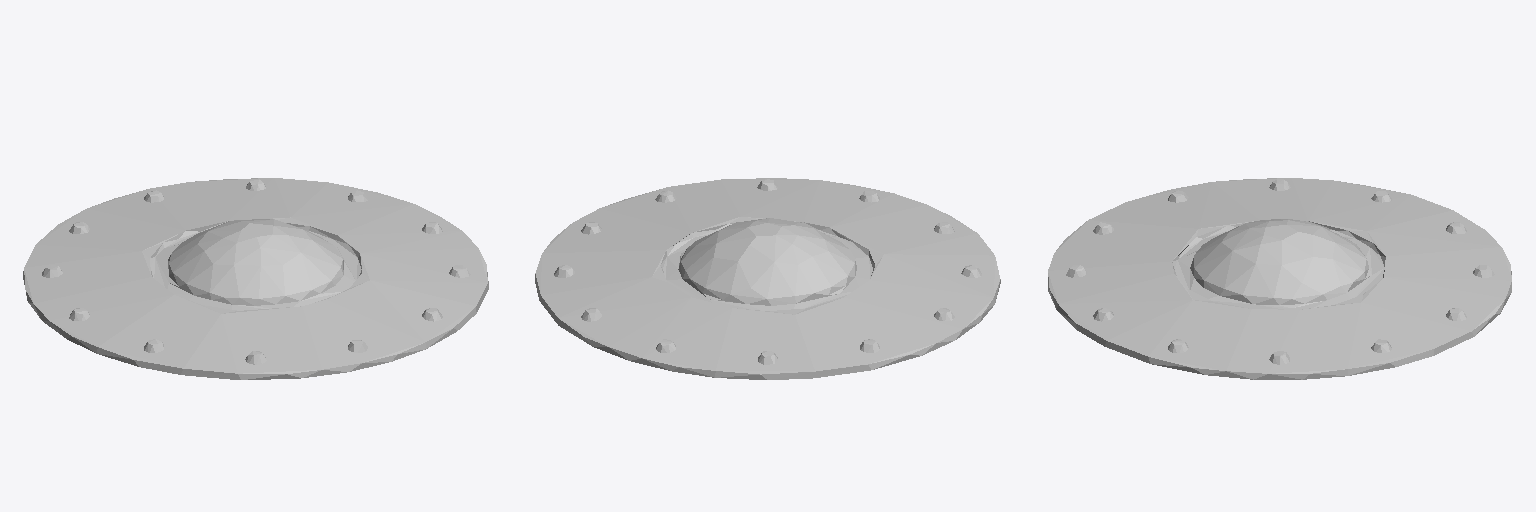
File: ufo.obj
3 renders of one model, left to right at view 1: azimuth 30°, elevation 25°; view 2: azimuth 150°, elevation 25°; view 3: azimuth 270°, elevation 25°, orthographic.
Visible parts, largest first — view 1: Circle.001; view 2: Circle.001; view 3: Circle.001.
Boxes of the visible parts, box(x1,y1,x2,y2) form: Circle.001: box(23, 178, 488, 379); Circle.001: box(535, 178, 1000, 379); Circle.001: box(1048, 178, 1511, 379).
Size of the model in its own units: 1.97 by 0.243 by 1.97.